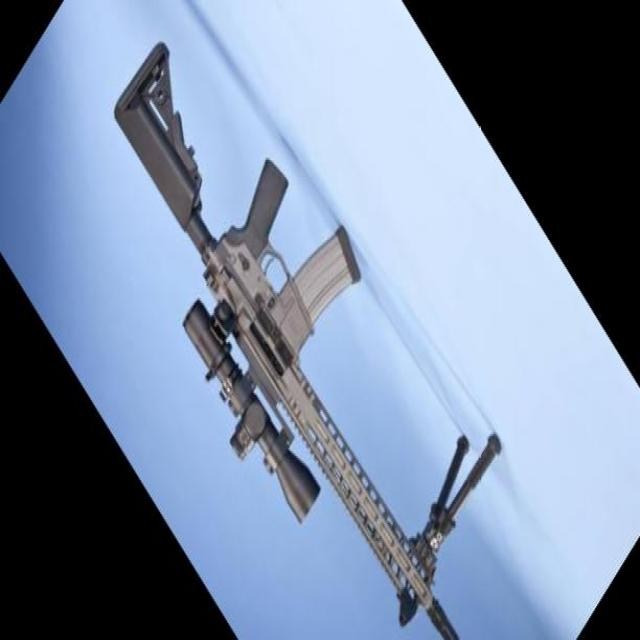heavy-weapon: (113, 39, 503, 640)
